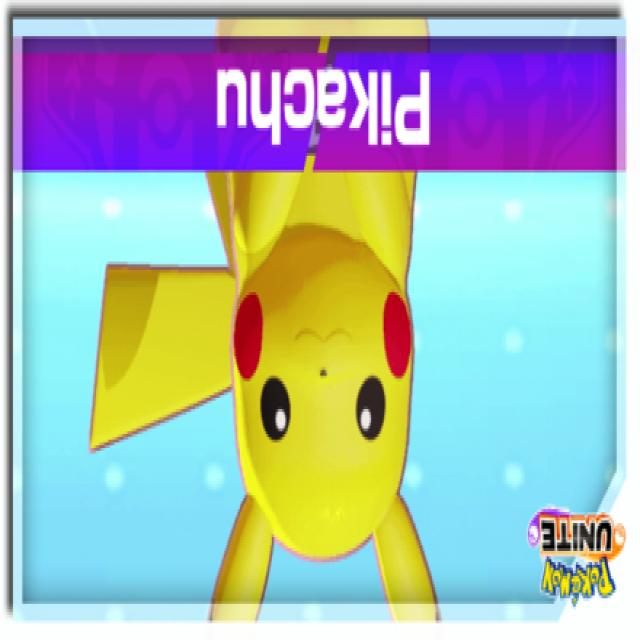Pikachu: (131, 180, 473, 624)
